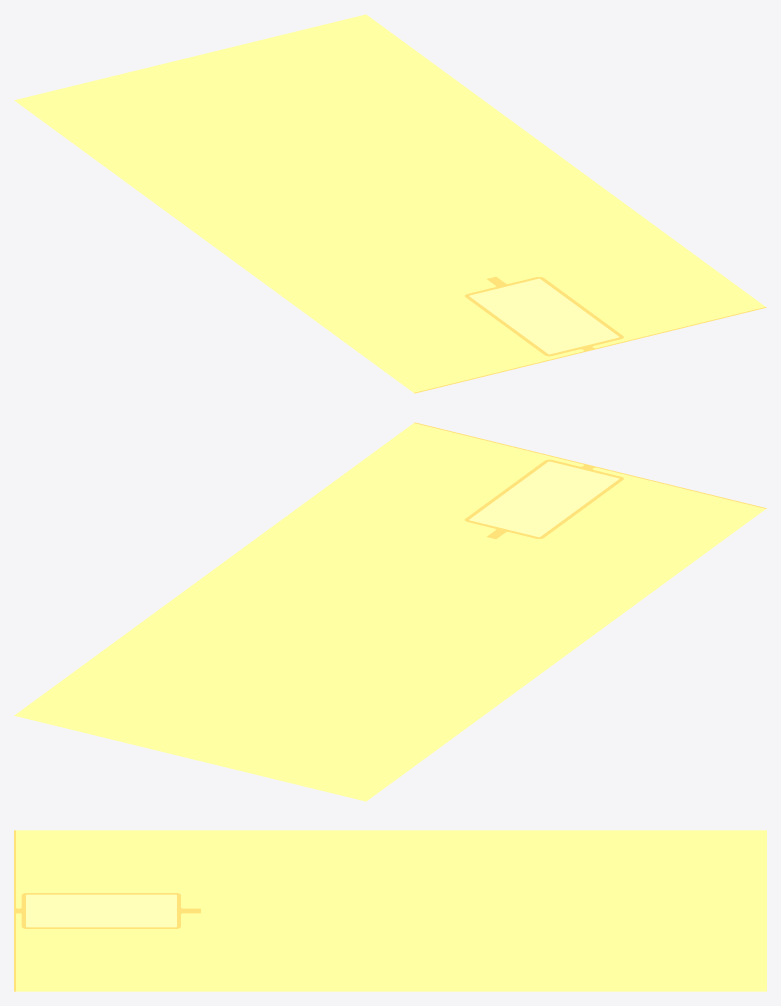
The model's file is Map-Stage-2.fbx.
3 views of the same model, one above another, from view 1: azimuth 30°, elevation 25°; view 2: azimuth 150°, elevation 25°; view 3: azimuth 270°, elevation 25° (orthographic). The views are drawn at different scales.
Visible parts, largest first — view 1: Map-Stage-2; view 2: Map-Stage-2; view 3: Map-Stage-2.
Boxes of the visible parts, x1=… form: Map-Stage-2: x1=14, y1=14, x2=766, y2=393; Map-Stage-2: x1=14, y1=422, x2=766, y2=801; Map-Stage-2: x1=14, y1=830, x2=766, y2=991.
Size of the model in its own units: 62 by 0.01 by 122.
